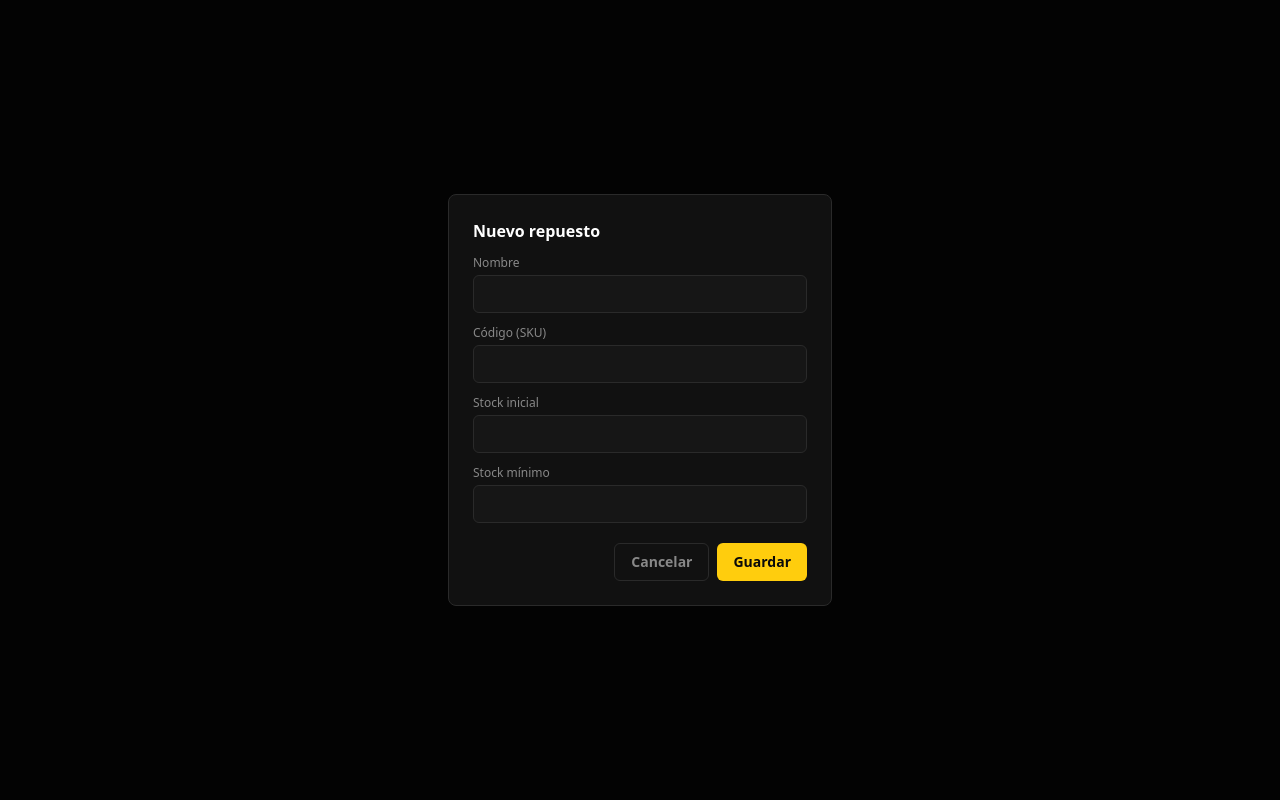
it: PartFormModal › error del backend (código duplicado) se muestra sin cerrar el modal
Type "Fusible 5A" into the field labelled "Nombre" at (640, 294), box [473, 275, 807, 313]
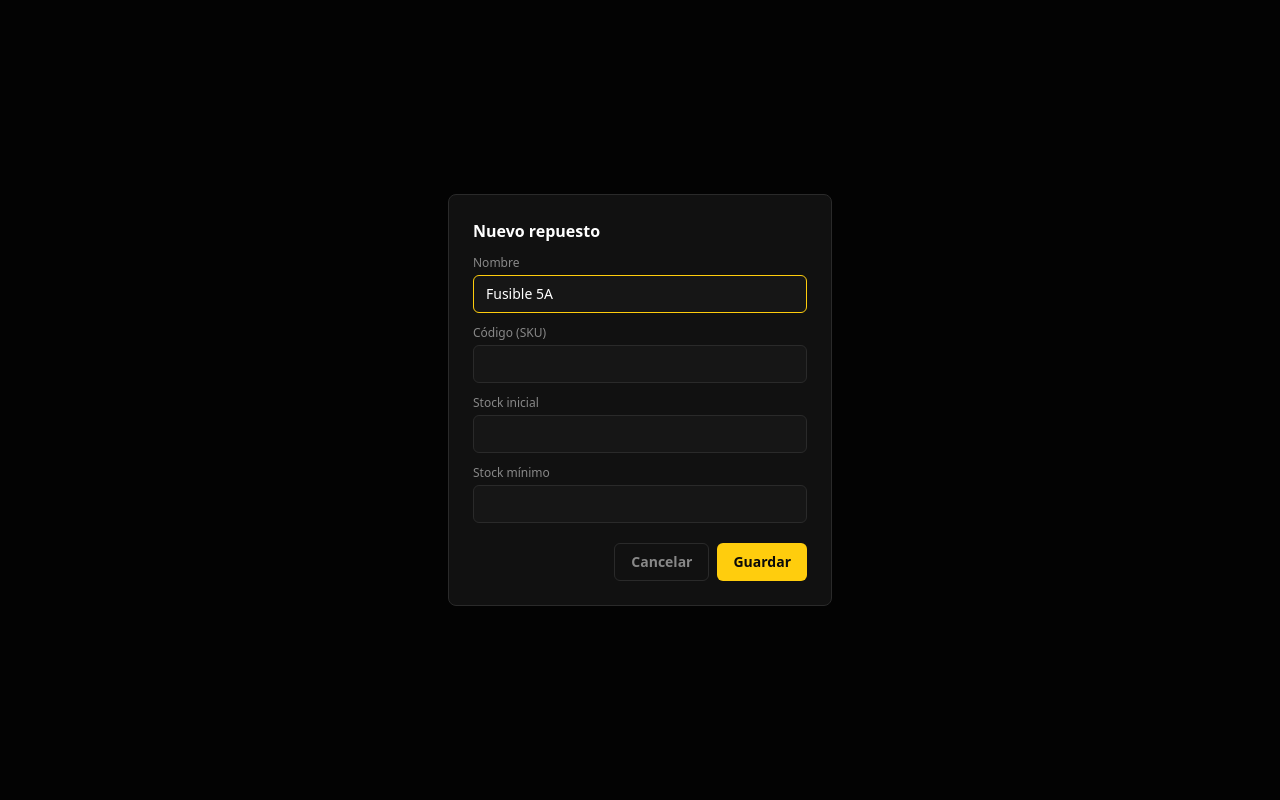
Type "5" into the number field labelled "Stock inicial" at (640, 434), box [473, 415, 807, 453]
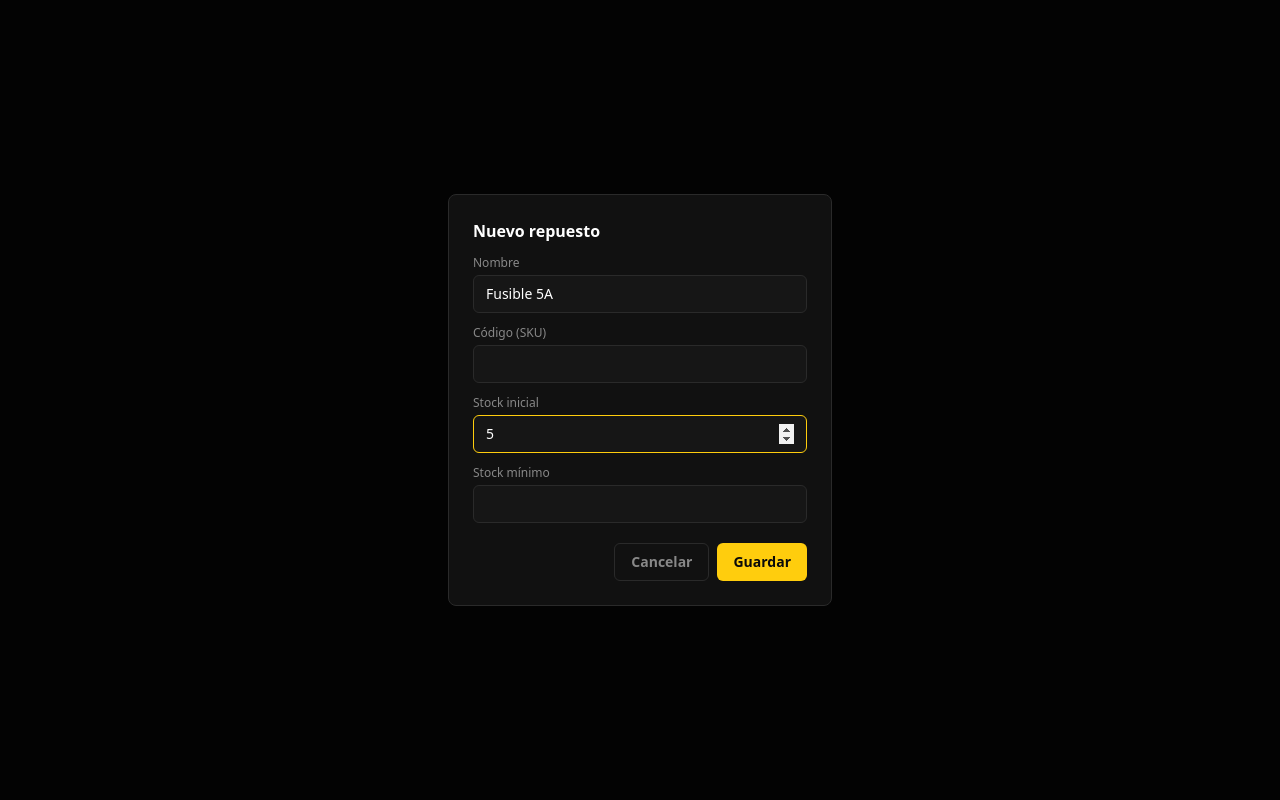
Type "1" into the number field labelled "Stock mínimo" at (640, 504), box [473, 485, 807, 523]
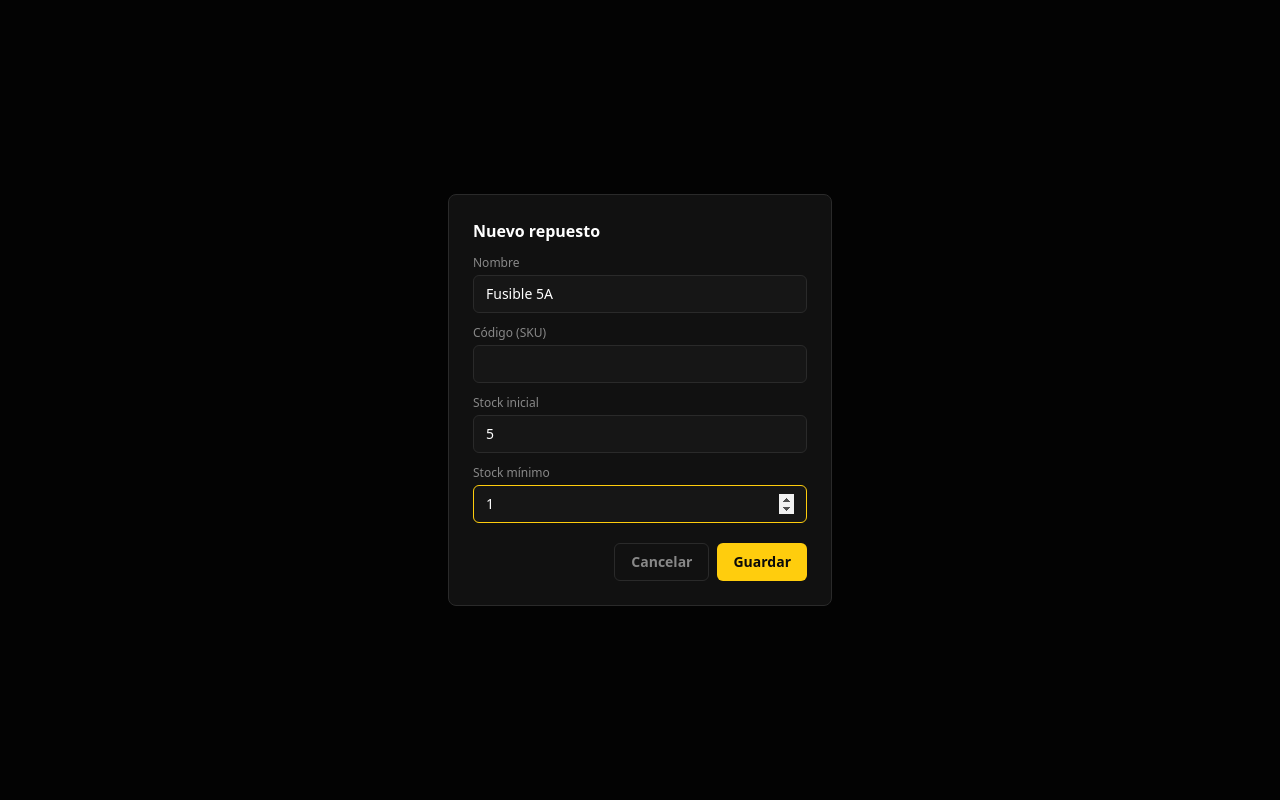
Click the button "Guardar" at (762, 562), box [718, 543, 807, 581]
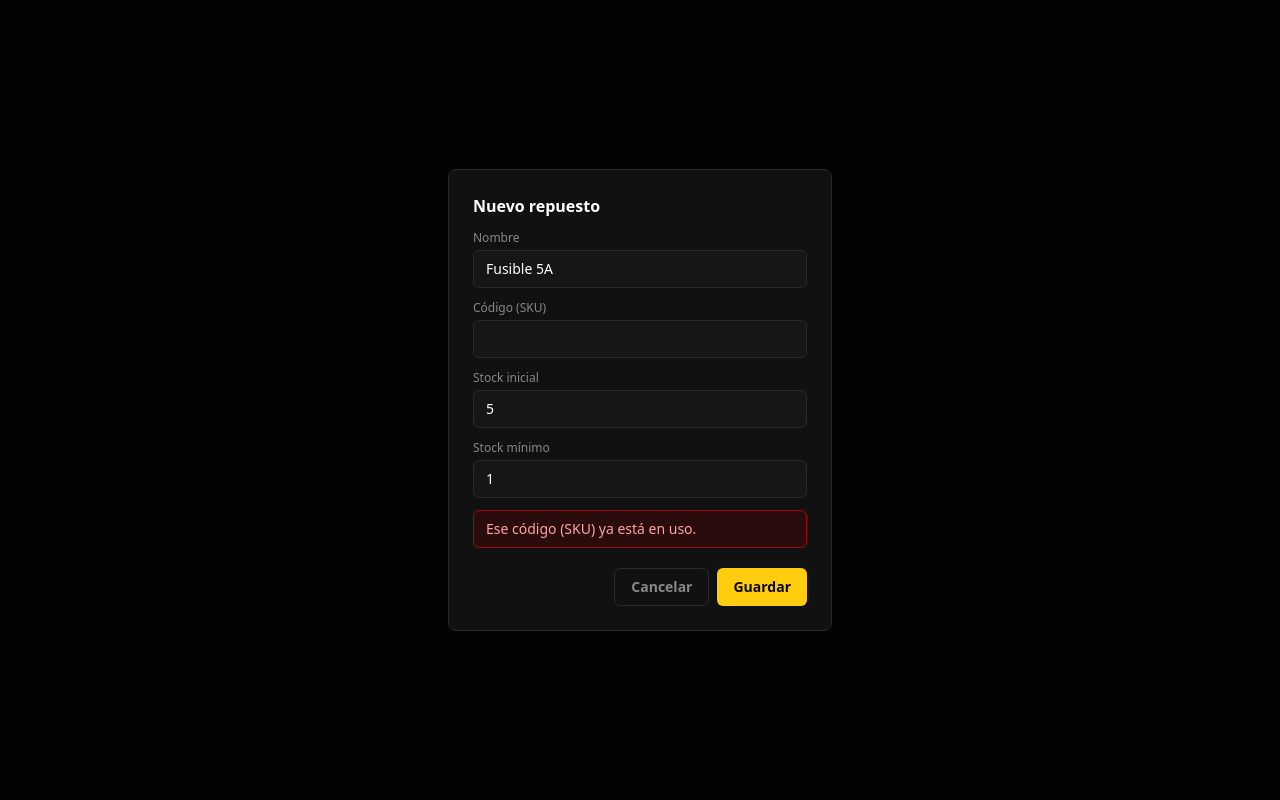
Expected: the text "Ese código (SKU) ya está en uso." is shown, [473, 510, 807, 548]
